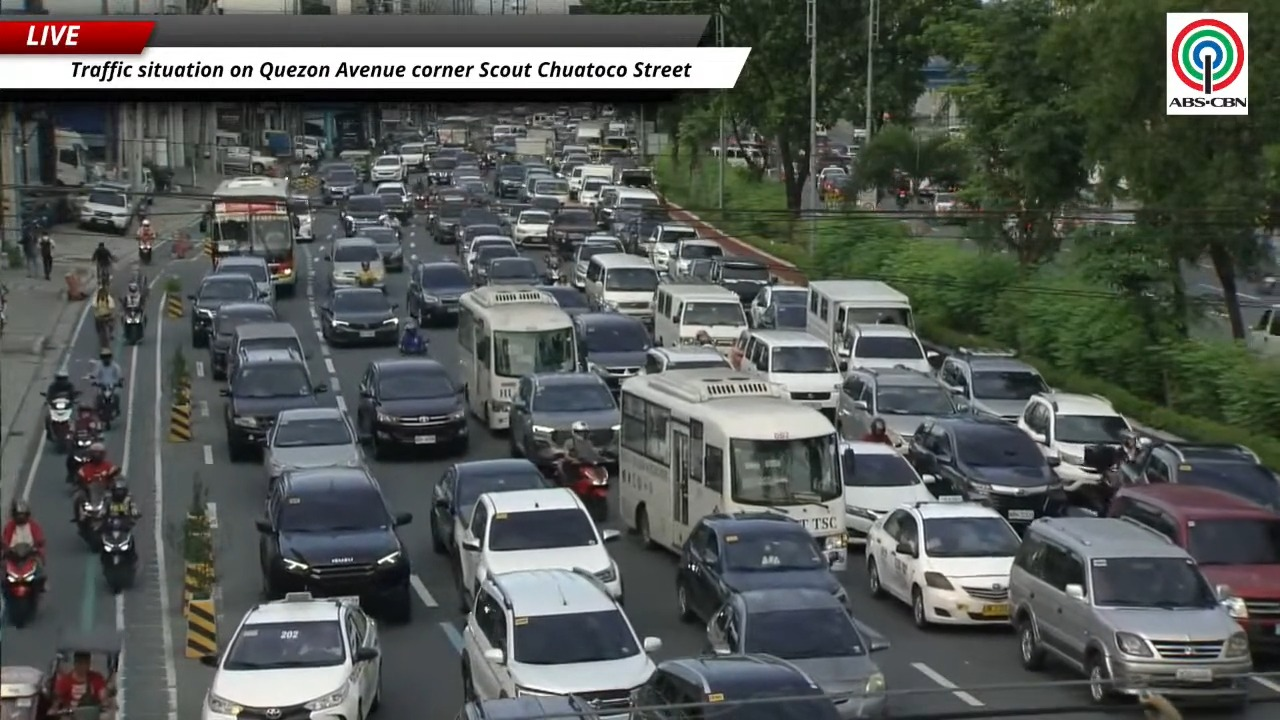bus: (617, 368, 847, 570), (457, 286, 579, 429), (206, 176, 297, 296)
car: (1008, 517, 1252, 709), (462, 568, 661, 716), (1108, 484, 1279, 656), (255, 467, 412, 621), (706, 588, 887, 719), (201, 593, 380, 719), (456, 487, 622, 611), (865, 502, 1019, 627), (675, 511, 848, 621), (906, 415, 1066, 525), (631, 654, 839, 719), (221, 349, 327, 462), (1118, 436, 1279, 510), (430, 458, 549, 555), (1017, 392, 1132, 491), (356, 357, 468, 457), (509, 372, 620, 467), (837, 369, 962, 448), (839, 440, 934, 543), (939, 348, 1050, 421), (264, 407, 363, 480), (572, 312, 652, 394), (188, 273, 261, 347), (209, 302, 278, 380), (225, 321, 309, 379), (319, 288, 399, 345), (838, 324, 932, 372), (406, 261, 473, 325), (457, 695, 601, 719), (212, 255, 275, 304), (325, 237, 385, 288), (78, 183, 135, 235), (569, 235, 623, 289), (641, 222, 698, 271), (641, 345, 729, 374), (548, 208, 597, 257), (749, 284, 807, 325), (470, 240, 521, 285), (458, 235, 518, 272), (341, 194, 392, 236), (358, 227, 404, 272), (669, 239, 723, 277), (615, 213, 663, 255), (428, 196, 468, 243), (480, 256, 542, 286), (537, 285, 590, 316), (322, 164, 362, 204), (374, 182, 412, 222), (513, 209, 551, 245), (459, 223, 510, 249), (287, 195, 314, 243), (497, 200, 531, 238), (757, 303, 805, 329), (530, 177, 569, 205), (495, 163, 524, 198), (370, 154, 405, 182), (461, 205, 503, 227), (674, 259, 712, 283), (428, 155, 457, 185), (398, 142, 427, 171), (578, 177, 607, 206), (455, 177, 488, 200), (528, 197, 559, 214)
motorcycle: (556, 457, 609, 522), (2, 543, 42, 627), (99, 516, 136, 593), (74, 482, 105, 550), (42, 393, 75, 452), (66, 431, 97, 485), (94, 385, 119, 430), (122, 305, 144, 345), (398, 332, 428, 355), (544, 253, 561, 284), (138, 238, 153, 264), (896, 190, 909, 209)
truck: (53, 128, 90, 186), (1247, 304, 1279, 355), (575, 122, 603, 150), (514, 138, 549, 159), (437, 126, 469, 147), (524, 128, 555, 145)
